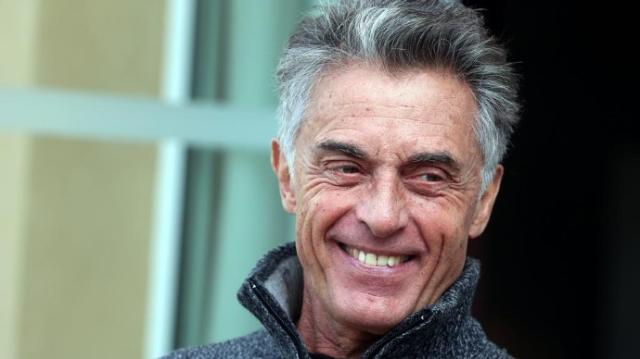crows_feet: (300, 160, 326, 186), (446, 176, 469, 205)
forehead: (373, 109, 409, 126), (314, 117, 342, 137)
frown_line: (389, 146, 407, 166)
gummy_smile: (325, 209, 347, 234), (414, 220, 431, 250)
masseter: (305, 222, 319, 257), (313, 258, 333, 282), (420, 266, 434, 298), (434, 229, 446, 263)
